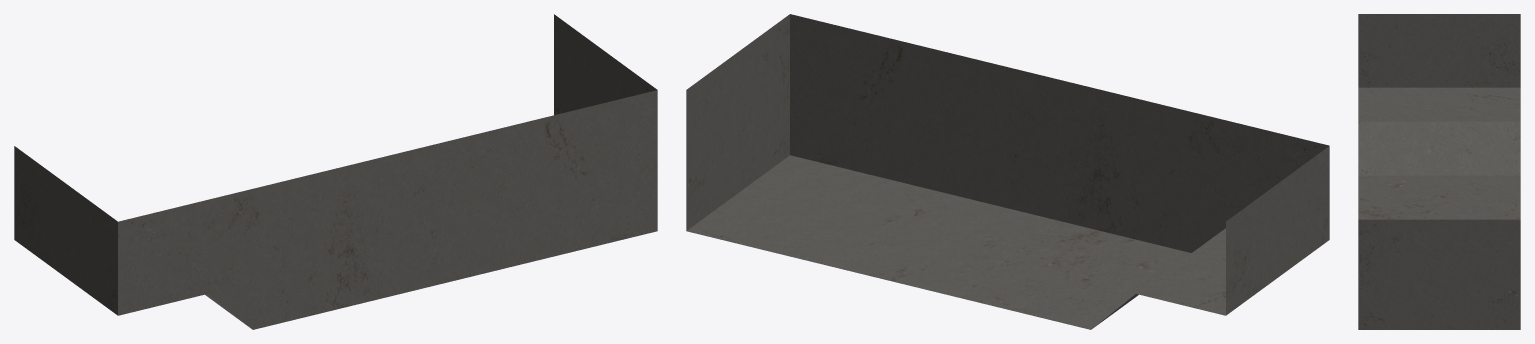
The model's file is sm_cb01_module11.glb.
3 renders of one model, left to right at view 1: azimuth 30°, elevation 25°; view 2: azimuth 150°, elevation 25°; view 3: azimuth 270°, elevation 25°, orthographic. The views are drawn at different scales.
Parts seen in each view (by area): view 1: sm_cb01_module11; view 2: sm_cb01_module11; view 3: sm_cb01_module11.
Boxes of the visible parts, bbox=[...] form: sm_cb01_module11: bbox=[14, 14, 657, 329]; sm_cb01_module11: bbox=[686, 14, 1329, 329]; sm_cb01_module11: bbox=[1358, 14, 1520, 329].
Size of the model in its own units: 12 by 3 by 4.
1 material, 1 textured.
